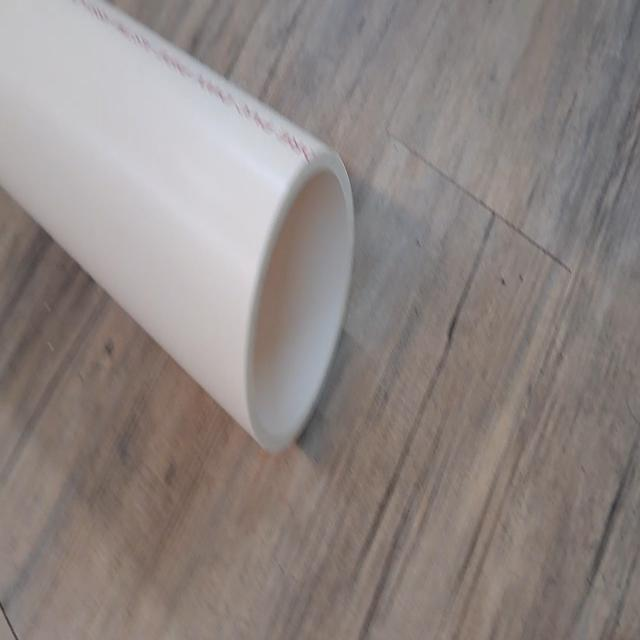CORAL: (0, 0, 359, 464)
